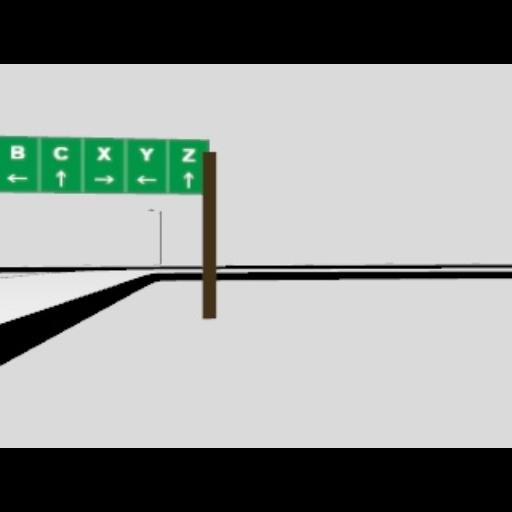B: (10, 144, 24, 158)
C: (53, 144, 69, 160)
Left: (7, 173, 29, 183), (136, 174, 156, 184)
Right: (93, 174, 115, 184)
Straight: (182, 171, 194, 189), (54, 169, 66, 187)
X: (96, 146, 110, 160)
Y: (139, 146, 153, 160)
Z: (181, 147, 195, 161)
